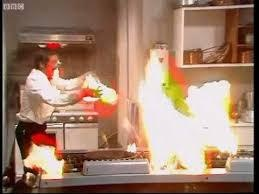fire: (138, 49, 241, 172), (23, 134, 66, 178)
